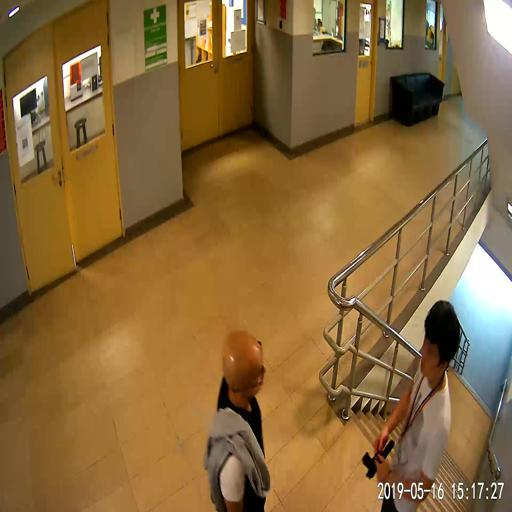pistol: (362, 439, 394, 479)
